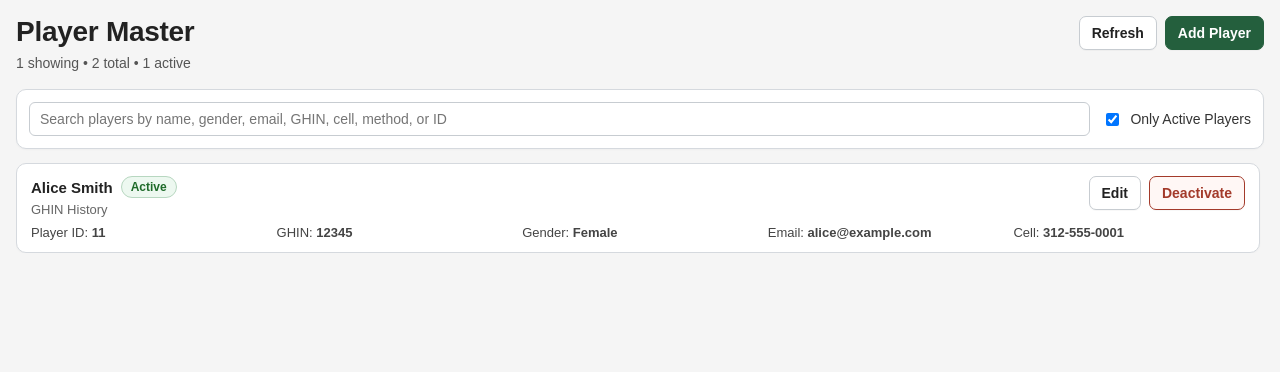
Test: Player administration page characterization (before controller extraction) › shows inactive players and adjusts counts when the filter is disabled
Expected: the text "Alice Smith" is shown, left=31, top=179, right=113, bottom=196
Click the checkbox labelled "Only Active Players" at (1113, 119), box left=1106, top=113, right=1119, bottom=126
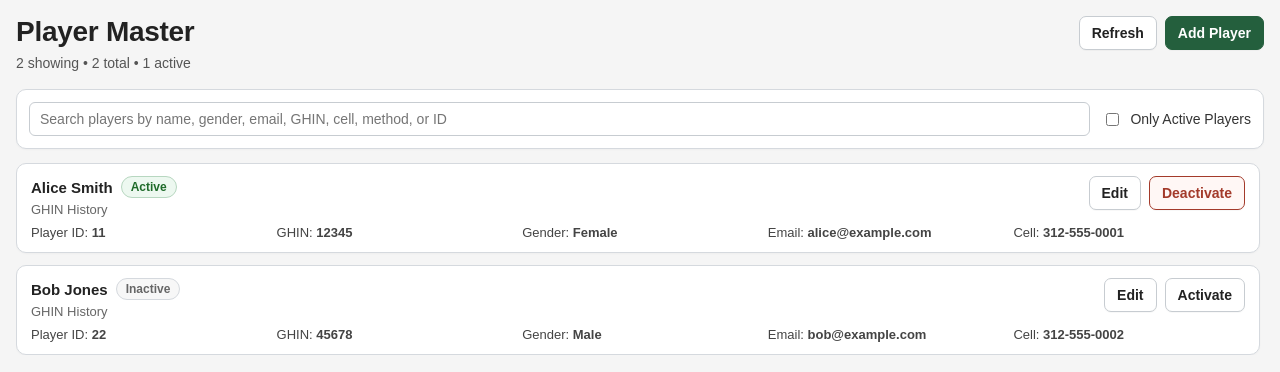
Result: the text "Bob Jones" is shown at left=31, top=281, right=108, bottom=298
Result: the text "2 showing • 2 total • 1 active" is shown at left=16, top=55, right=191, bottom=71
Result: the text "Inactive" is shown at left=116, top=278, right=180, bottom=300
